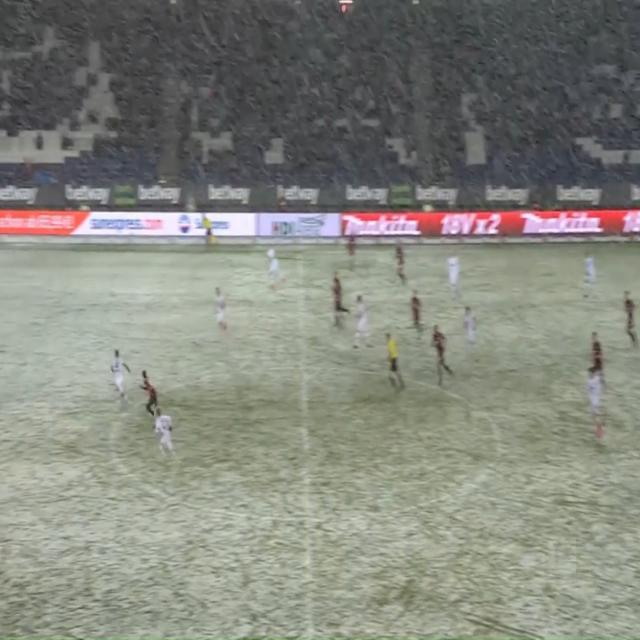ball: (342, 4, 348, 16)
player: (149, 401, 183, 490), (101, 332, 132, 424), (206, 270, 238, 354), (583, 368, 615, 447), (427, 324, 460, 397), (575, 242, 607, 317), (326, 262, 355, 344), (348, 287, 373, 372), (262, 230, 289, 297), (136, 354, 159, 430), (402, 283, 427, 347), (620, 277, 640, 353), (582, 329, 611, 379), (391, 234, 413, 292), (446, 250, 464, 309)
referee: (382, 325, 409, 409), (194, 203, 222, 258)
